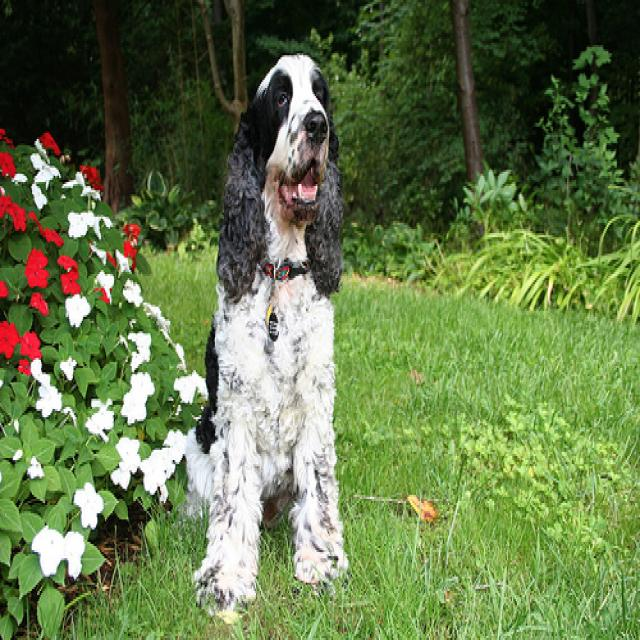dog: (215, 51, 341, 293)
